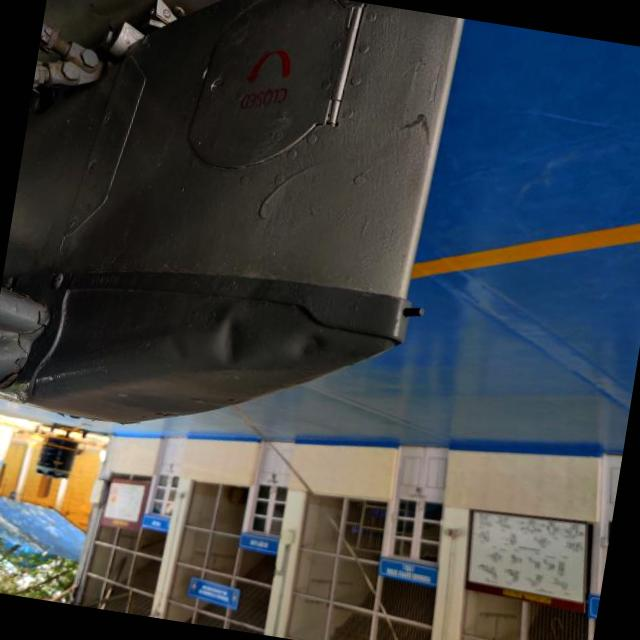dent: (195, 300, 261, 380), (276, 314, 338, 377)
